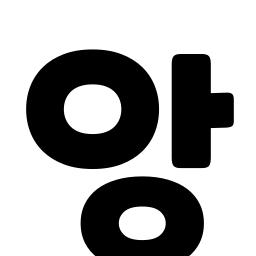Gaji: (162, 82, 225, 140)
